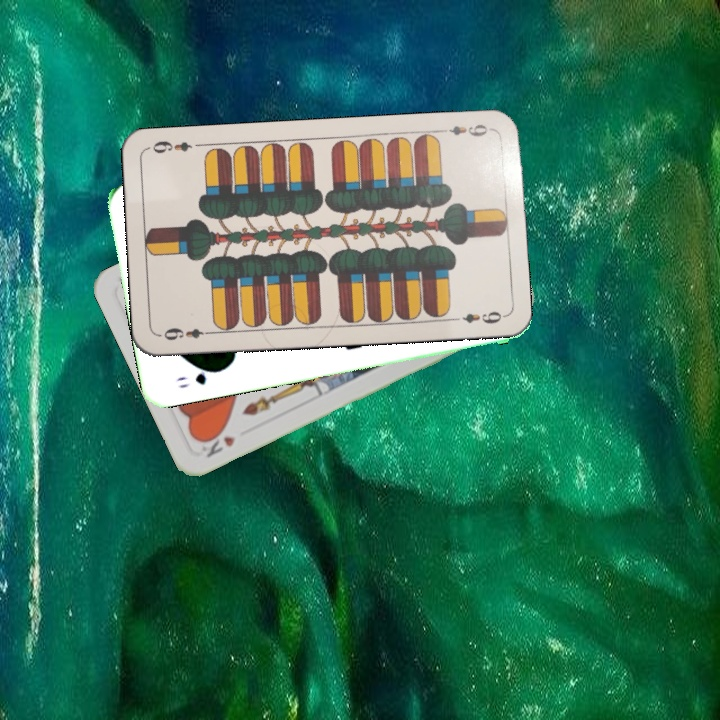E9: (157, 324, 216, 343), (436, 120, 495, 139)
GO: (172, 364, 223, 391)
HK: (196, 426, 238, 460)
